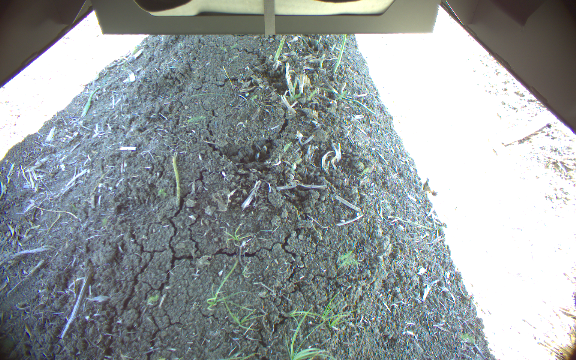aspa: (332, 34, 347, 74), (272, 34, 289, 64)
